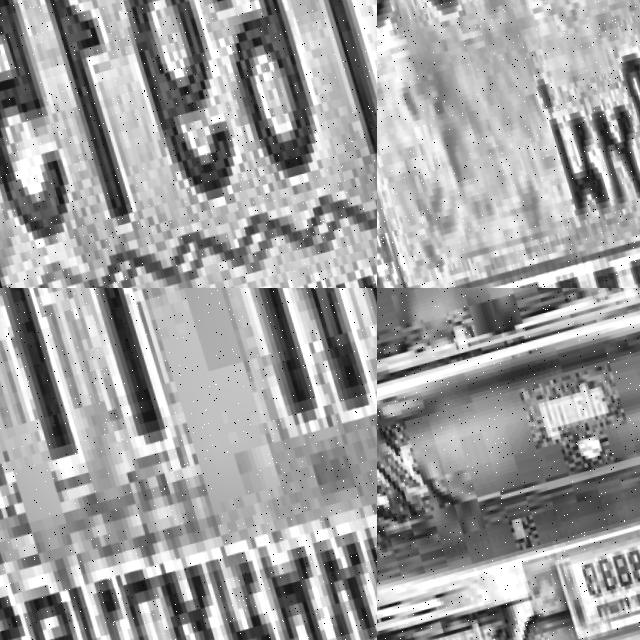license-plate: (0, 288, 377, 640), (0, 0, 377, 288), (377, 0, 640, 288), (541, 525, 640, 640)
